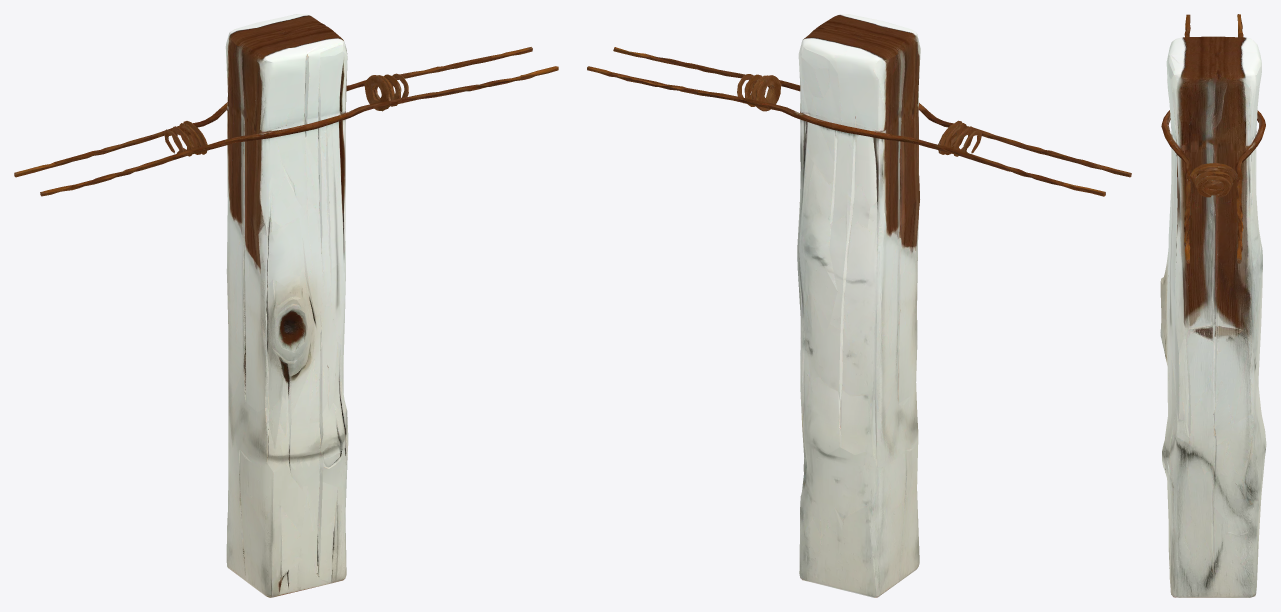
File: fence_post_wire.glb
3 views of the same model, side by side, from view 1: azimuth 30°, elevation 25°; view 2: azimuth 150°, elevation 25°; view 3: azimuth 270°, elevation 25° (orthographic). The views are drawn at different scales.
Size of the model in its own units: 1.9 by 1.9 by 0.3455.
1 material, 1 textured.
